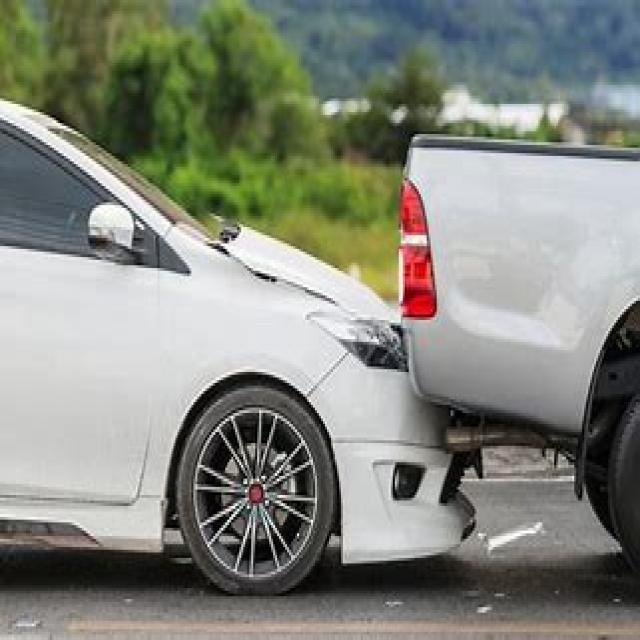Accident: (137, 66, 640, 640)
